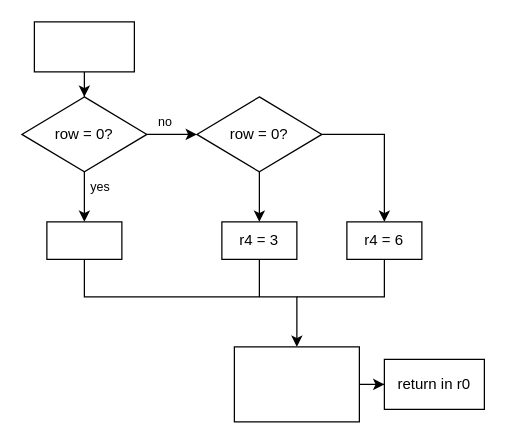
Some shapes in this 506 by 444 pixel diagram are drawn without their labels. The shapes that lost their labels are listed below. From the top down, each one's centre as x and y in pixels, then its label:
At (83,46): "player_pos".
At (84,240): "r4 = 0".
At (296,384): "r4 + col (r2)".
